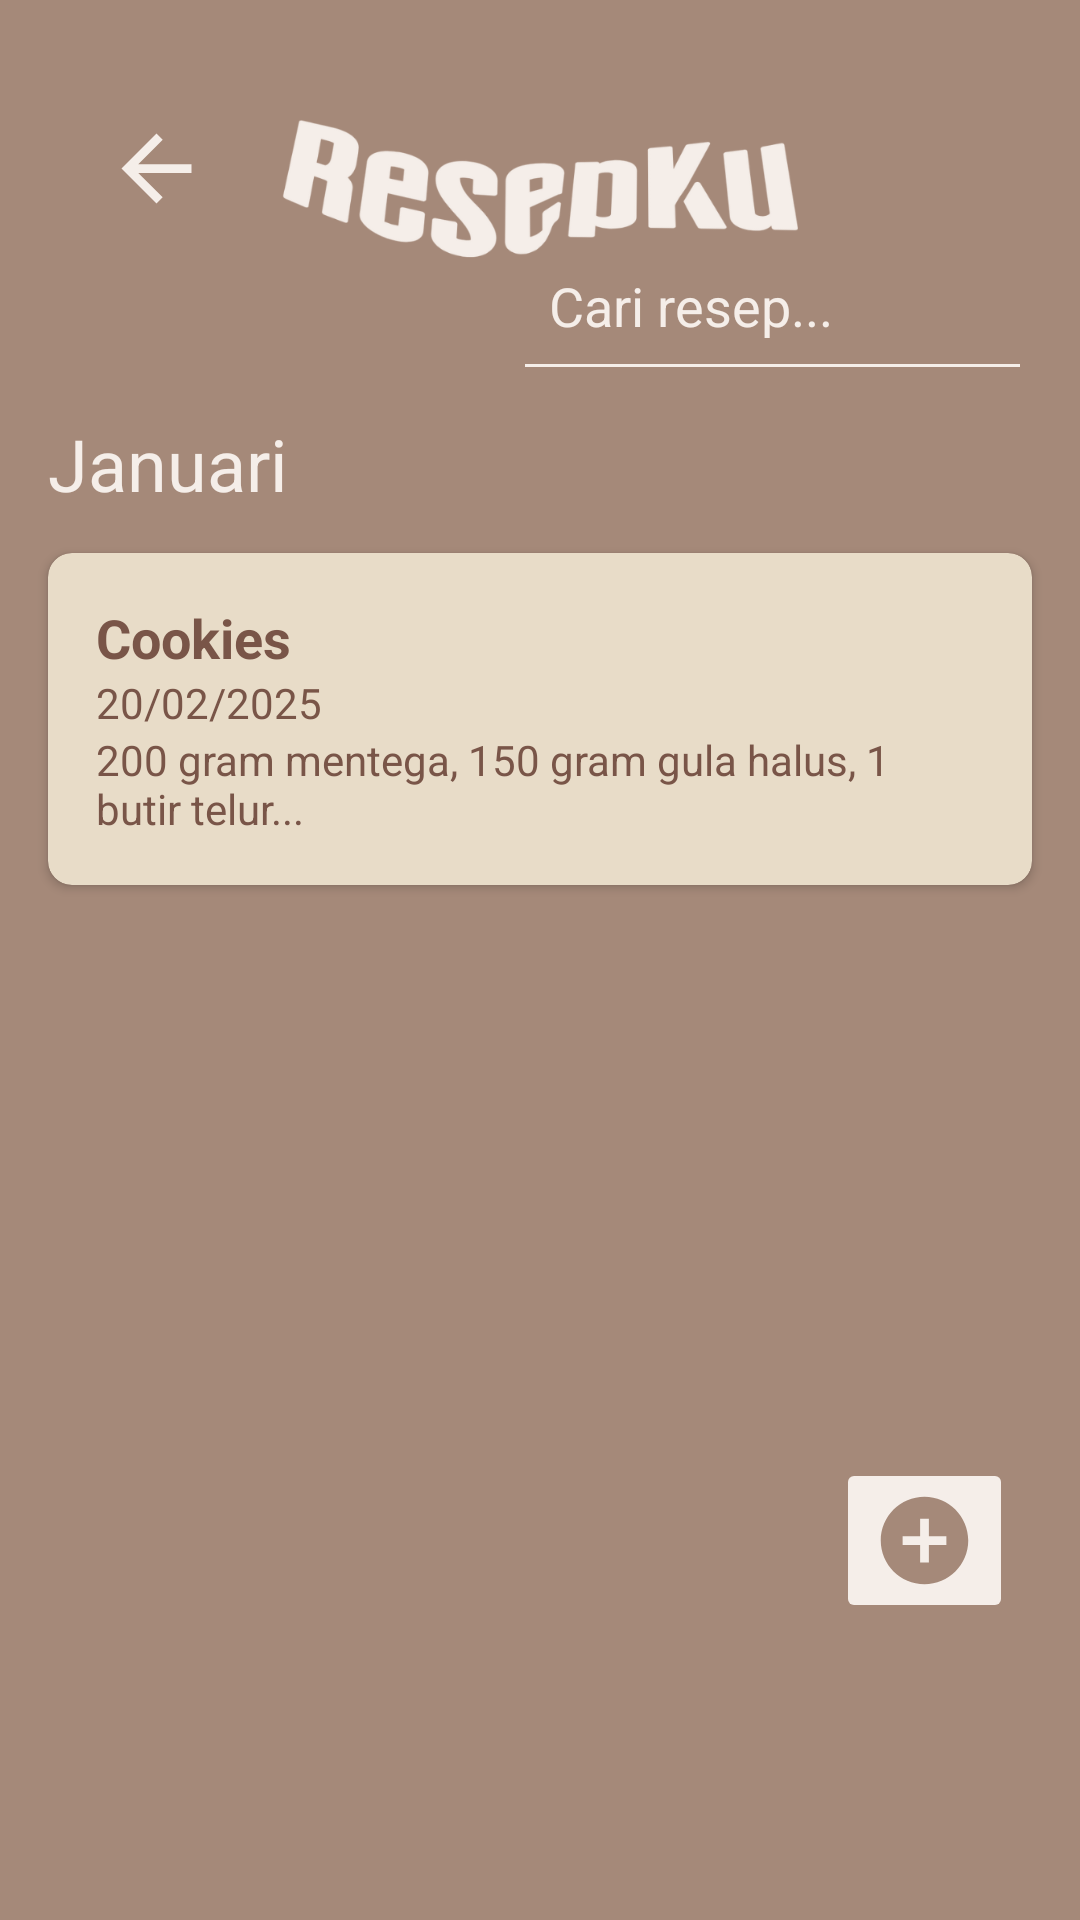

Screen size 1080px×1920px. Icon name, then its center in pixels as (x,y):
add circle: (924,1540)
Back Button: (156,168)
